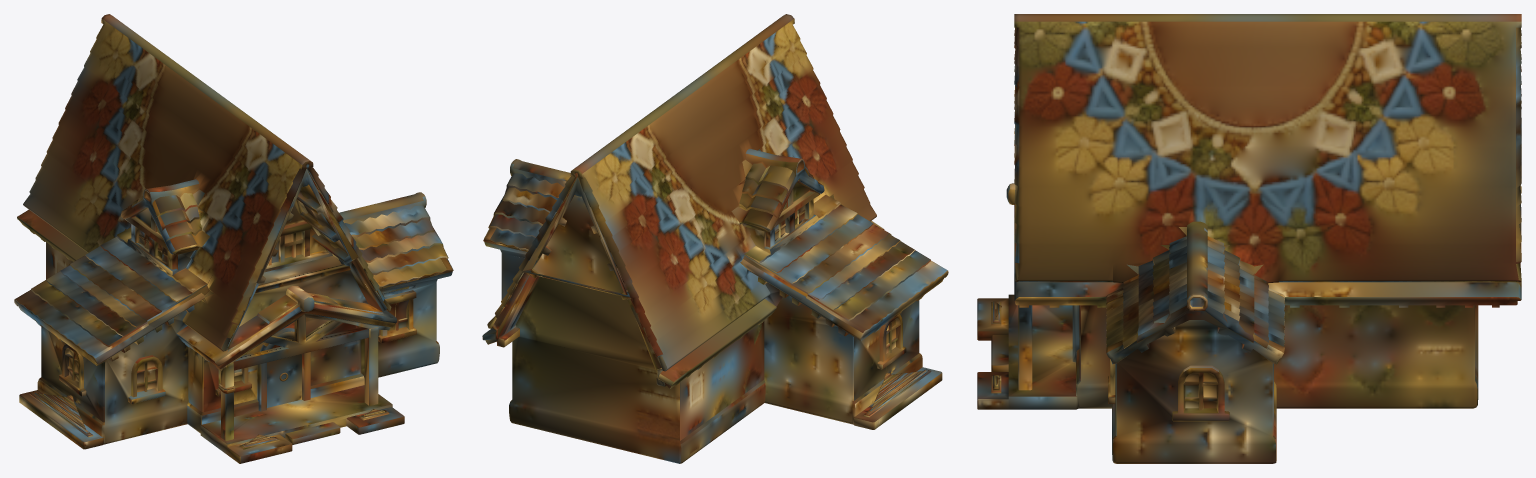
File: casa playa llista para usar.fbx
3 views of the same model, side by side, from view 1: azimuth 30°, elevation 25°; view 2: azimuth 150°, elevation 25°; view 3: azimuth 270°, elevation 25° (orthographic). The views are drawn at different scales.
Parts seen in each view (by area): view 1: mesh_rep_0_ori_repair_quad; view 2: mesh_rep_0_ori_repair_quad; view 3: mesh_rep_0_ori_repair_quad.
Boxes of the visible parts, <box> form: mesh_rep_0_ori_repair_quad: <box>14,14,453,463</box>; mesh_rep_0_ori_repair_quad: <box>482,14,948,463</box>; mesh_rep_0_ori_repair_quad: <box>977,14,1521,463</box>.
Size of the model in its own units: 1188 by 829 by 1189.
